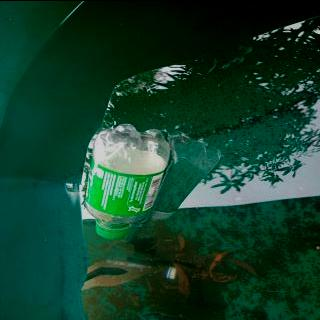bottle: (81, 122, 172, 242)
